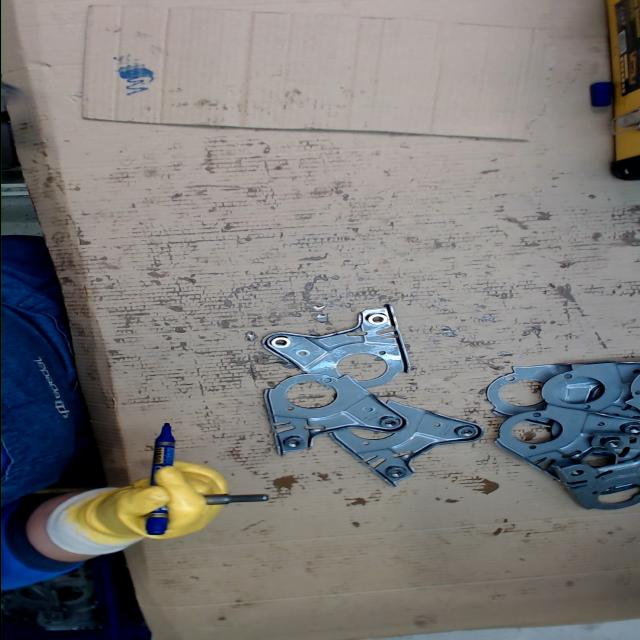hands: (68, 458, 232, 542)
